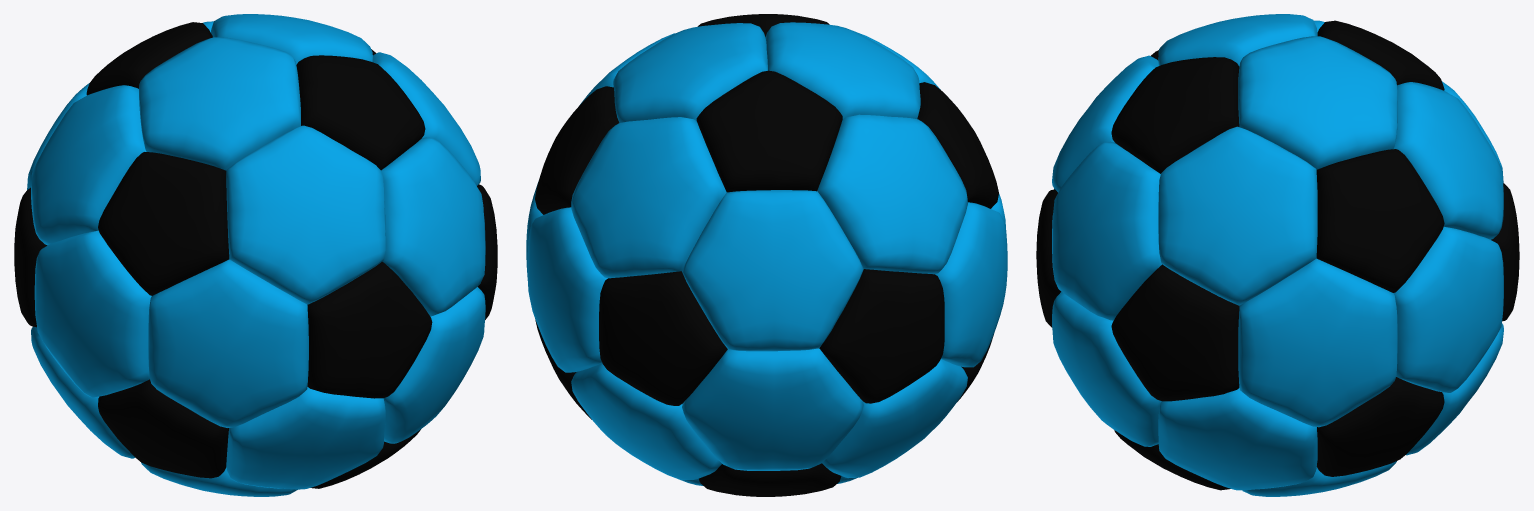
Rendered from Bong.fbx.
3 renders of one model, left to right at view 1: azimuth 30°, elevation 25°; view 2: azimuth 150°, elevation 25°; view 3: azimuth 270°, elevation 25°, orthographic.
Parts seen in each view (by area): view 1: 5_4; view 2: 5_4; view 3: 5_4.
Boxes of the visible parts, box(x1,y1,x2,y2) form: 5_4: box(14, 14, 497, 496); 5_4: box(526, 14, 1007, 496); 5_4: box(1036, 14, 1519, 496).
Bounding box in the file's own units: 22.48 × 22.39 × 22.51.
